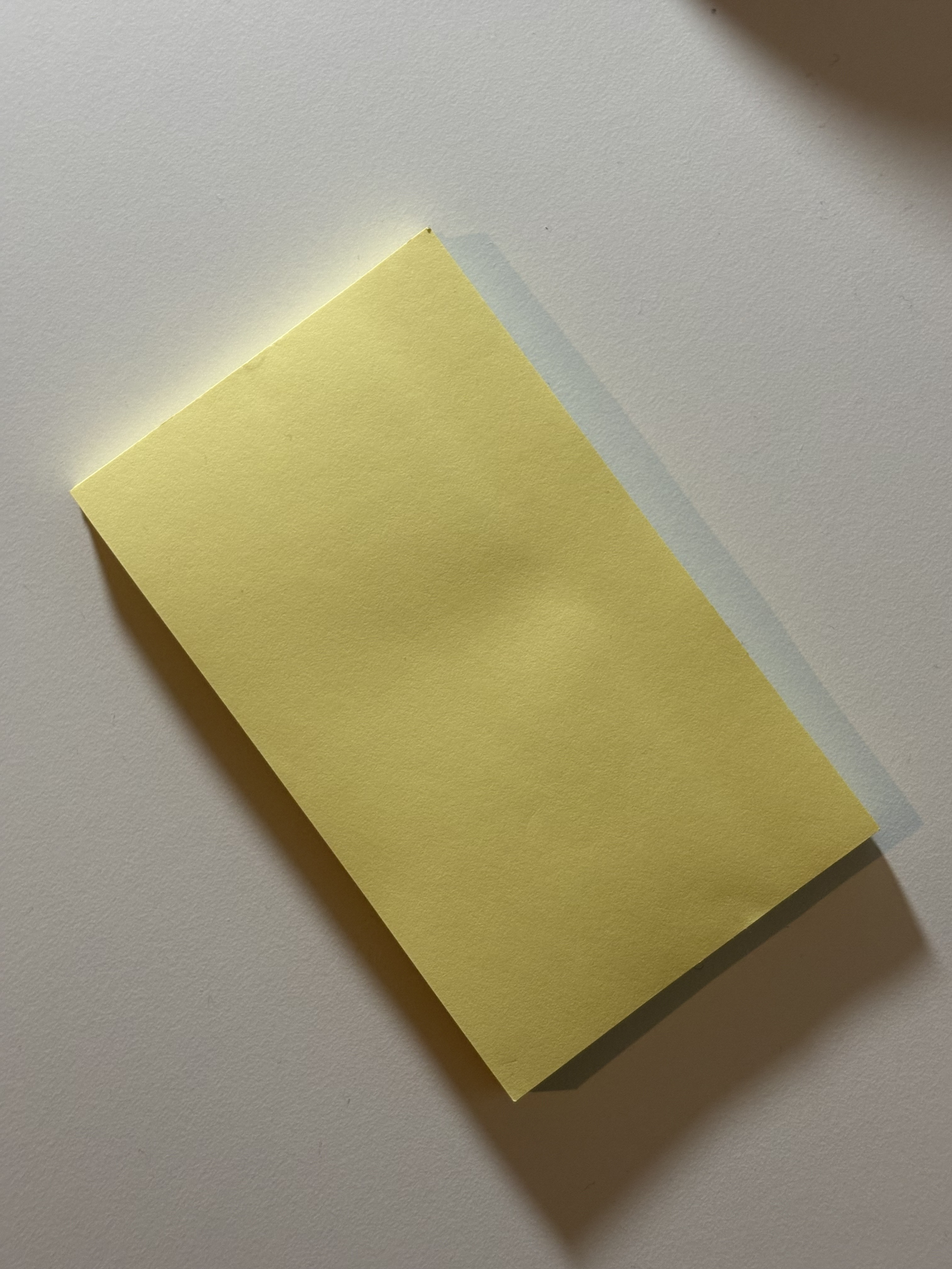paper: (62, 223, 873, 1106)
